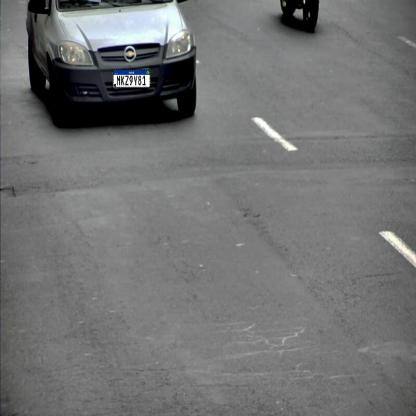PlacaM: (113, 69, 150, 88)
